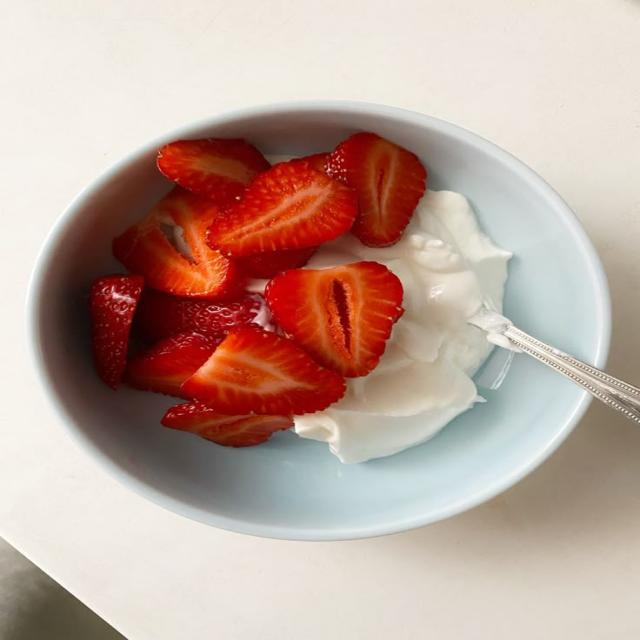strawberry sliced: (266, 262, 403, 377), (208, 160, 357, 257), (182, 328, 345, 414), (114, 188, 239, 298), (327, 133, 426, 246), (158, 139, 270, 204), (135, 290, 274, 341), (124, 333, 221, 399), (89, 275, 144, 388), (161, 402, 293, 447), (238, 247, 317, 279), (300, 153, 329, 172)
